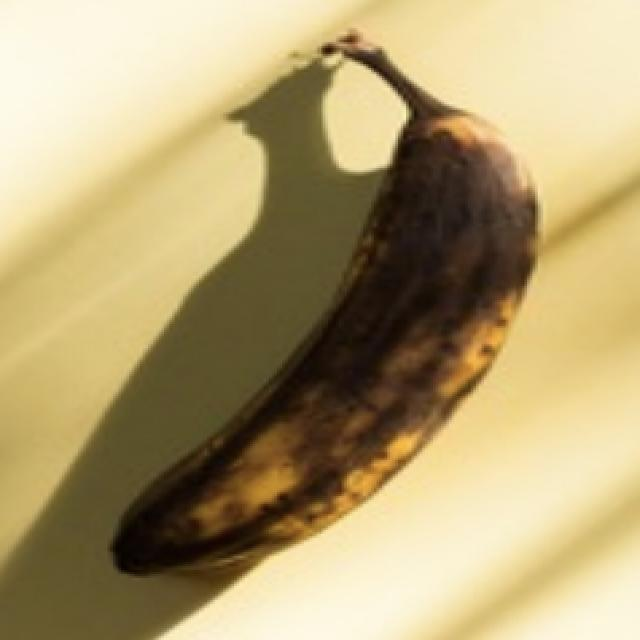rotten-banana: (110, 44, 544, 598)
